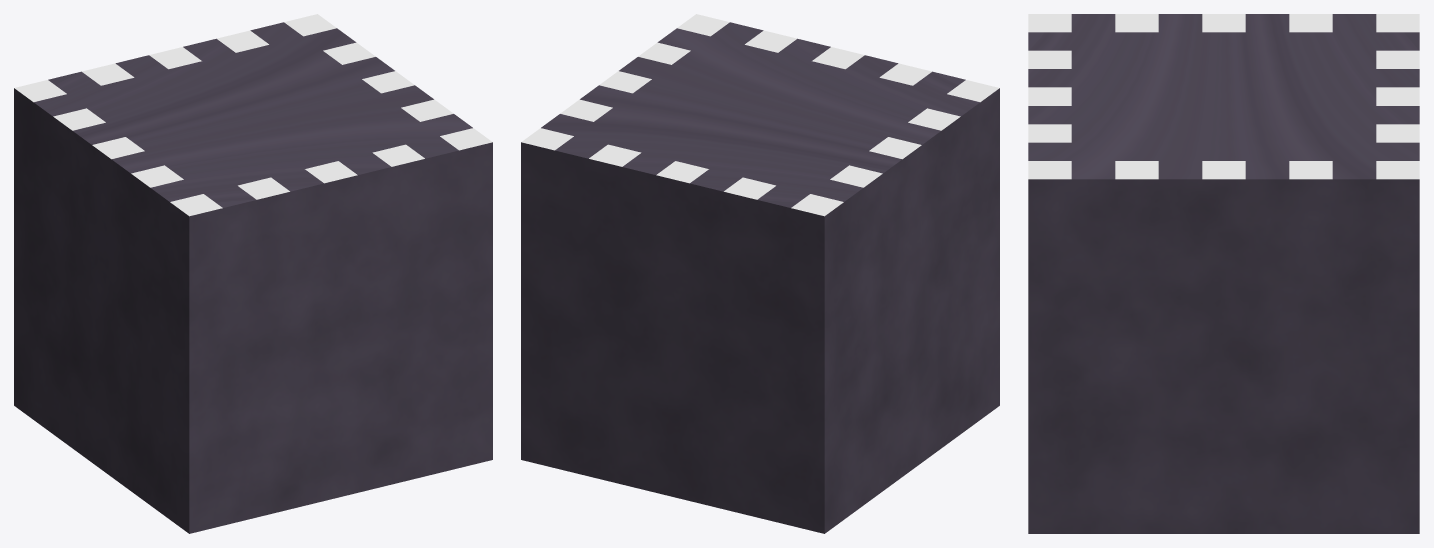
The model's file is Crossroad.fbx.
3 renders of one model, left to right at view 1: azimuth 30°, elevation 25°; view 2: azimuth 150°, elevation 25°; view 3: azimuth 270°, elevation 25°, orthographic. The views are drawn at different scales.
Visible parts, largest first — view 1: Crossroad; view 2: Crossroad; view 3: Crossroad.
Boxes of the visible parts, bbox=[...] form: Crossroad: bbox=[14, 14, 492, 533]; Crossroad: bbox=[521, 14, 999, 533]; Crossroad: bbox=[1028, 14, 1419, 533].
Bounding box in the file's own units: 200 × 200 × 200.
Materials: 2 (1 with a texture image).
